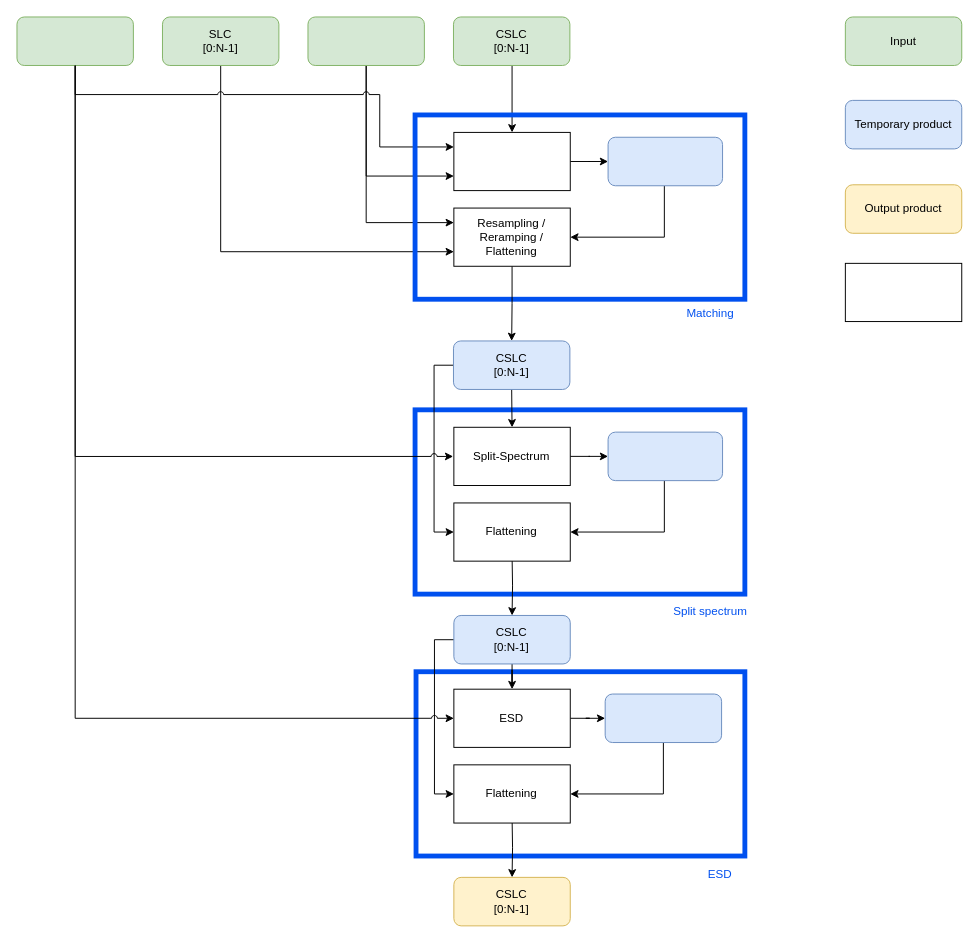
Image size: 979x943. Some labels were removed from this diagram. Here are the shapes that lost their labels. From the top down, the centre of each, then its label:
At (74,40): "Reference CSLC [0:N-1]".
At (365,40): "Disparity map [0:N-1]".
At (511,161): "Image Matching / Rubber shee ting".
At (665,161): "Disparity Map".
At (903,292): "Processing block".
At (665,456): "iono_phase".
At (663,718): "ESD_phase".
